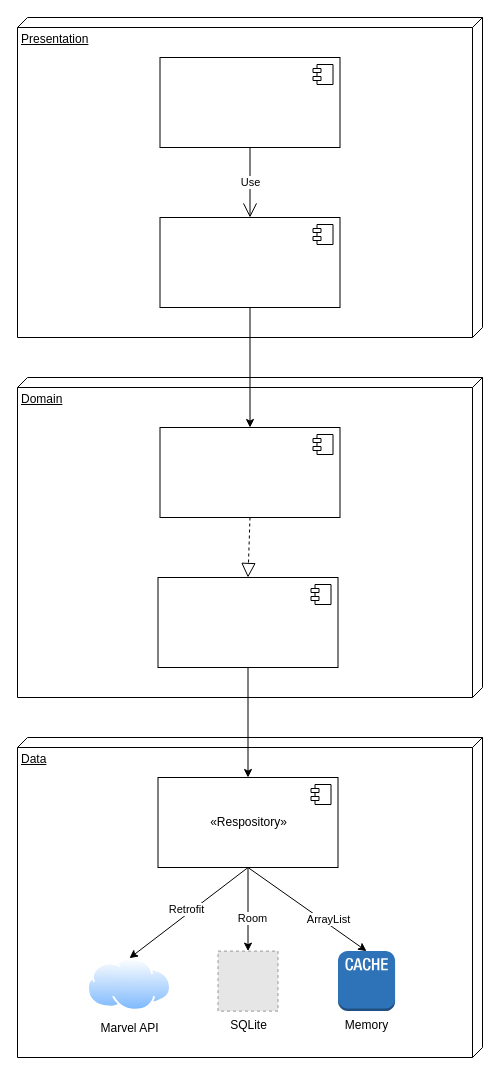
Image size: 500x1075. Some labels were removed from this diagram. Grey dashed boxes stand in for pictures. Each missing label, with the centre of its shape:
«Fragments»: [249,102]
«UseCasesRespositories»: [247,622]
«UseCases»: [249,472]
«ViewModels»: [249,262]
